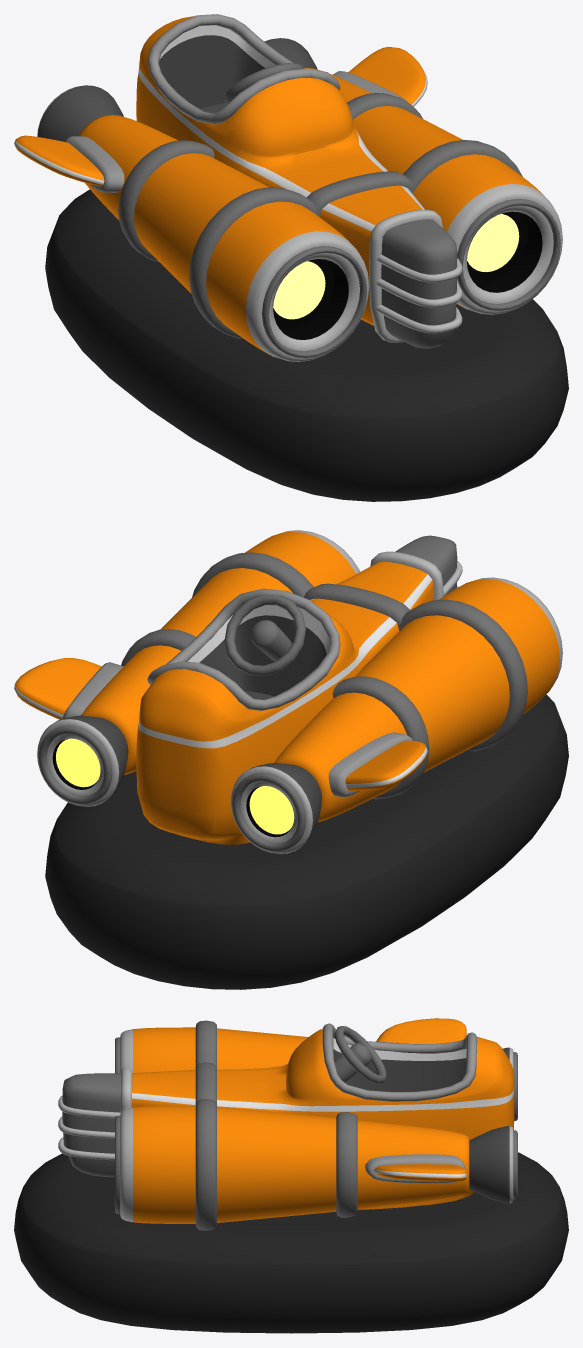
File: mesh_Car_Menu_K.fbx
3 renders of one model, top to bottom at view 1: azimuth 30°, elevation 25°; view 2: azimuth 150°, elevation 25°; view 3: azimuth 270°, elevation 25°, orthographic. The views are drawn at different scales.
Visible parts, largest first — view 1: mesh_Car_Menu_K; view 2: mesh_Car_Menu_K; view 3: mesh_Car_Menu_K.
Boxes of the visible parts, x1,y1,x2,y2 form: mesh_Car_Menu_K: (14,14,568,501); mesh_Car_Menu_K: (14,530,568,989); mesh_Car_Menu_K: (14,1018,568,1333).
Bounding box in the file's own units: 1.99 × 1.5 × 2.97.
